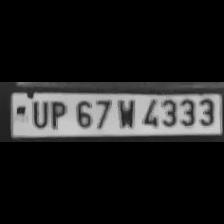3: (196, 95, 216, 127), (159, 96, 177, 128), (178, 95, 196, 127)
4: (139, 96, 159, 128)
6: (70, 98, 93, 130)
7: (93, 97, 113, 129)
P: (46, 99, 68, 129)
U: (28, 100, 48, 128)
W: (113, 96, 138, 130)
